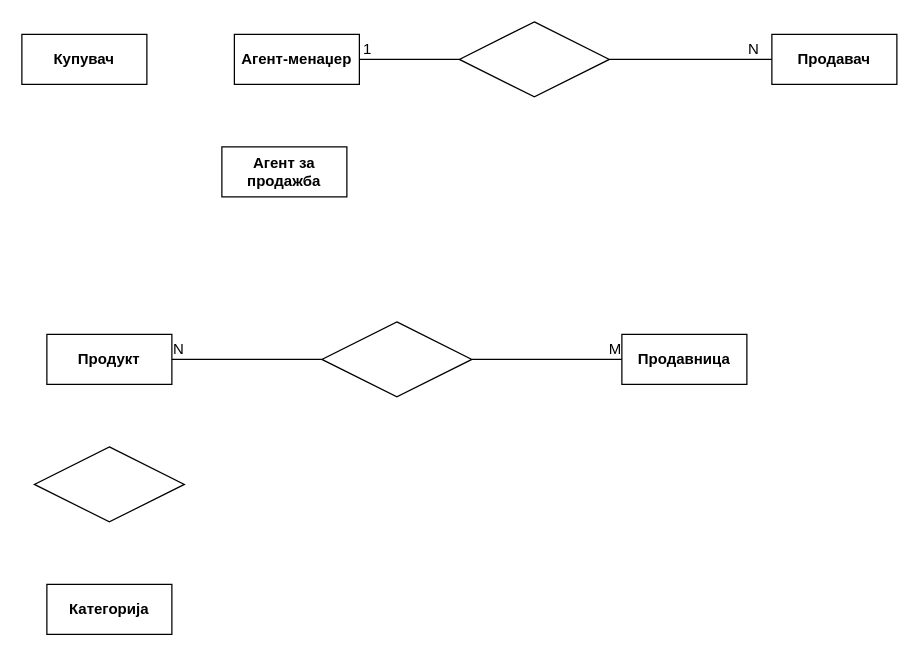
Some shapes in this 919 by 656 pixel diagram are drawn without their labels. Each missing label, with the box of its shape:
е категорија: (33, 446, 184, 522)
залиха: (321, 321, 472, 397)
менаџира: (458, 21, 609, 97)
